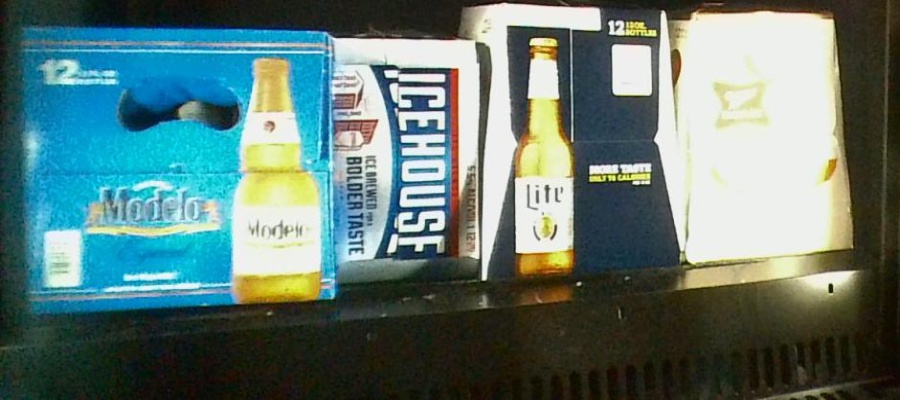bottle: (6, 28, 337, 302), (481, 4, 674, 276), (673, 9, 854, 259), (336, 31, 477, 291)
